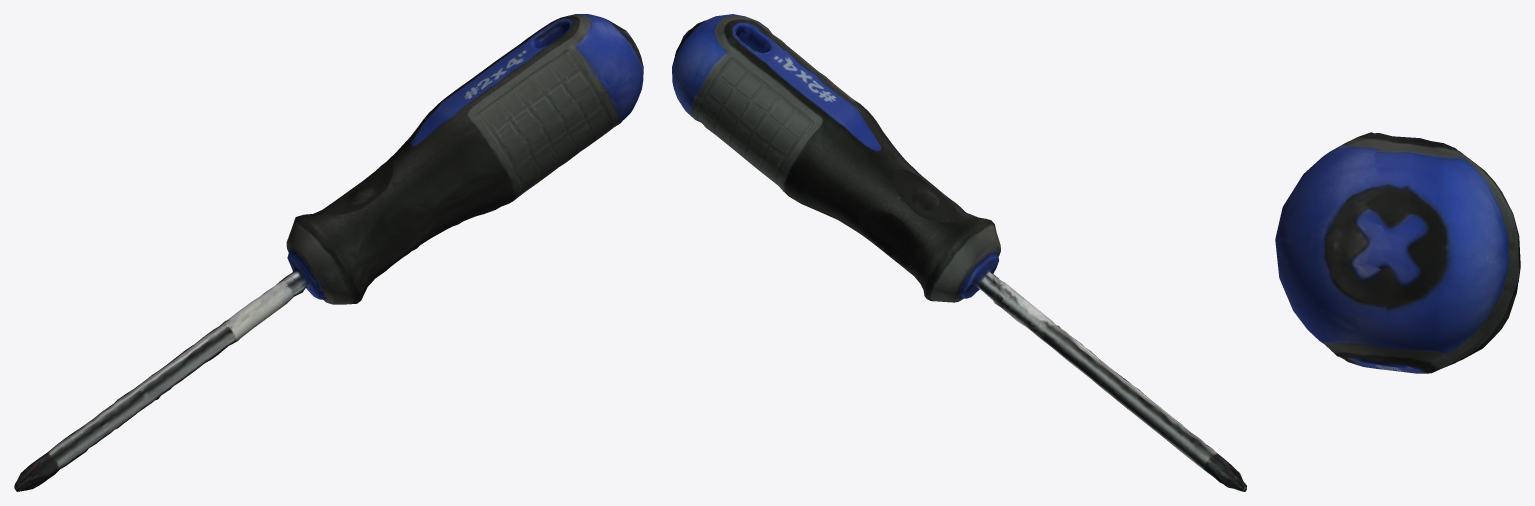
3 views of the same model, side by side, from view 1: azimuth 30°, elevation 25°; view 2: azimuth 150°, elevation 25°; view 3: azimuth 270°, elevation 25° (orthographic). The views are drawn at different scales.
Visible parts, largest first — view 1: textured.051; view 2: textured.051; view 3: textured.051.
Boxes of the visible parts, box(x1,y1,x2,y2) form: textured.051: box(14, 14, 643, 491); textured.051: box(672, 14, 1246, 491); textured.051: box(1275, 132, 1520, 373).
Bounding box in the file's own units: 0.1949 × 0.1069 × 0.0357.
Materials: 1 (1 with a texture image).
